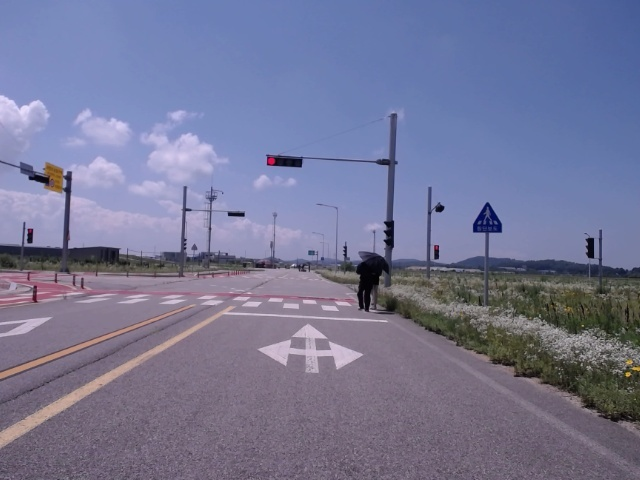red_4: (267, 156, 302, 168)
